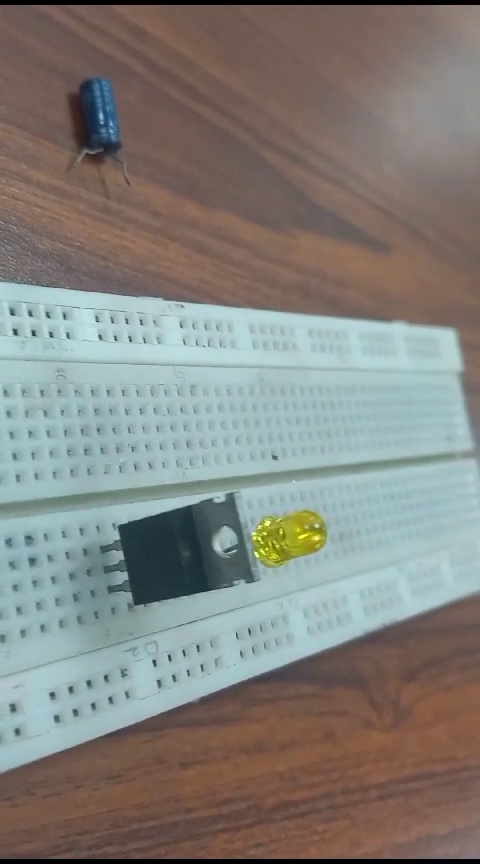LED: (255, 512, 335, 571)
voltage regulator: (99, 496, 258, 616)
